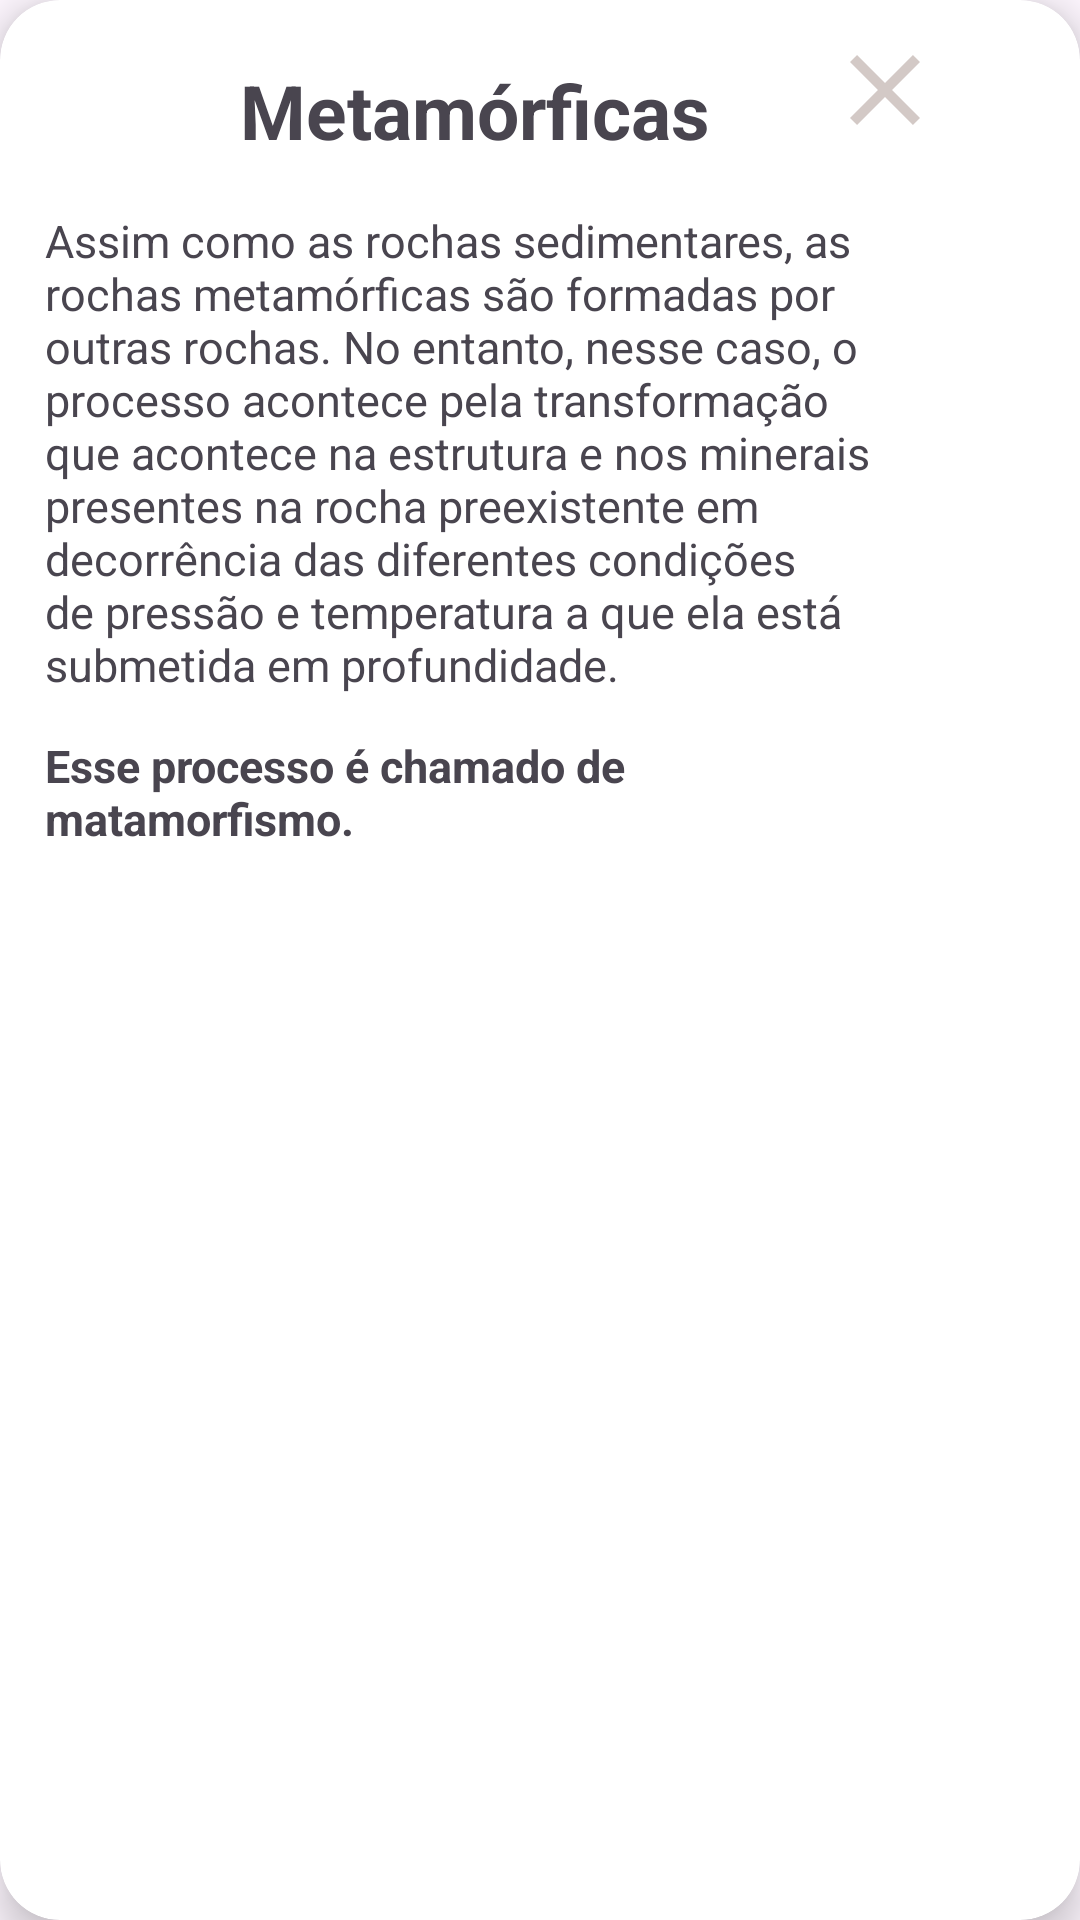

Named icons in this screenshot (1080x1920) and their centers, (x=x, y=y):
fechar: (x=885, y=90)
